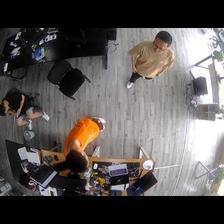normal: (122, 31, 177, 91), (64, 112, 105, 170)
